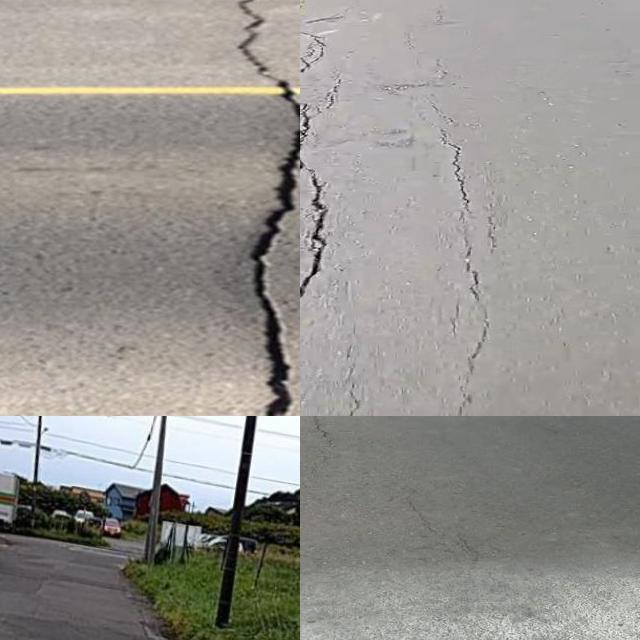Memanjang: (223, 0, 300, 416), (423, 108, 509, 416), (300, 89, 341, 325)
